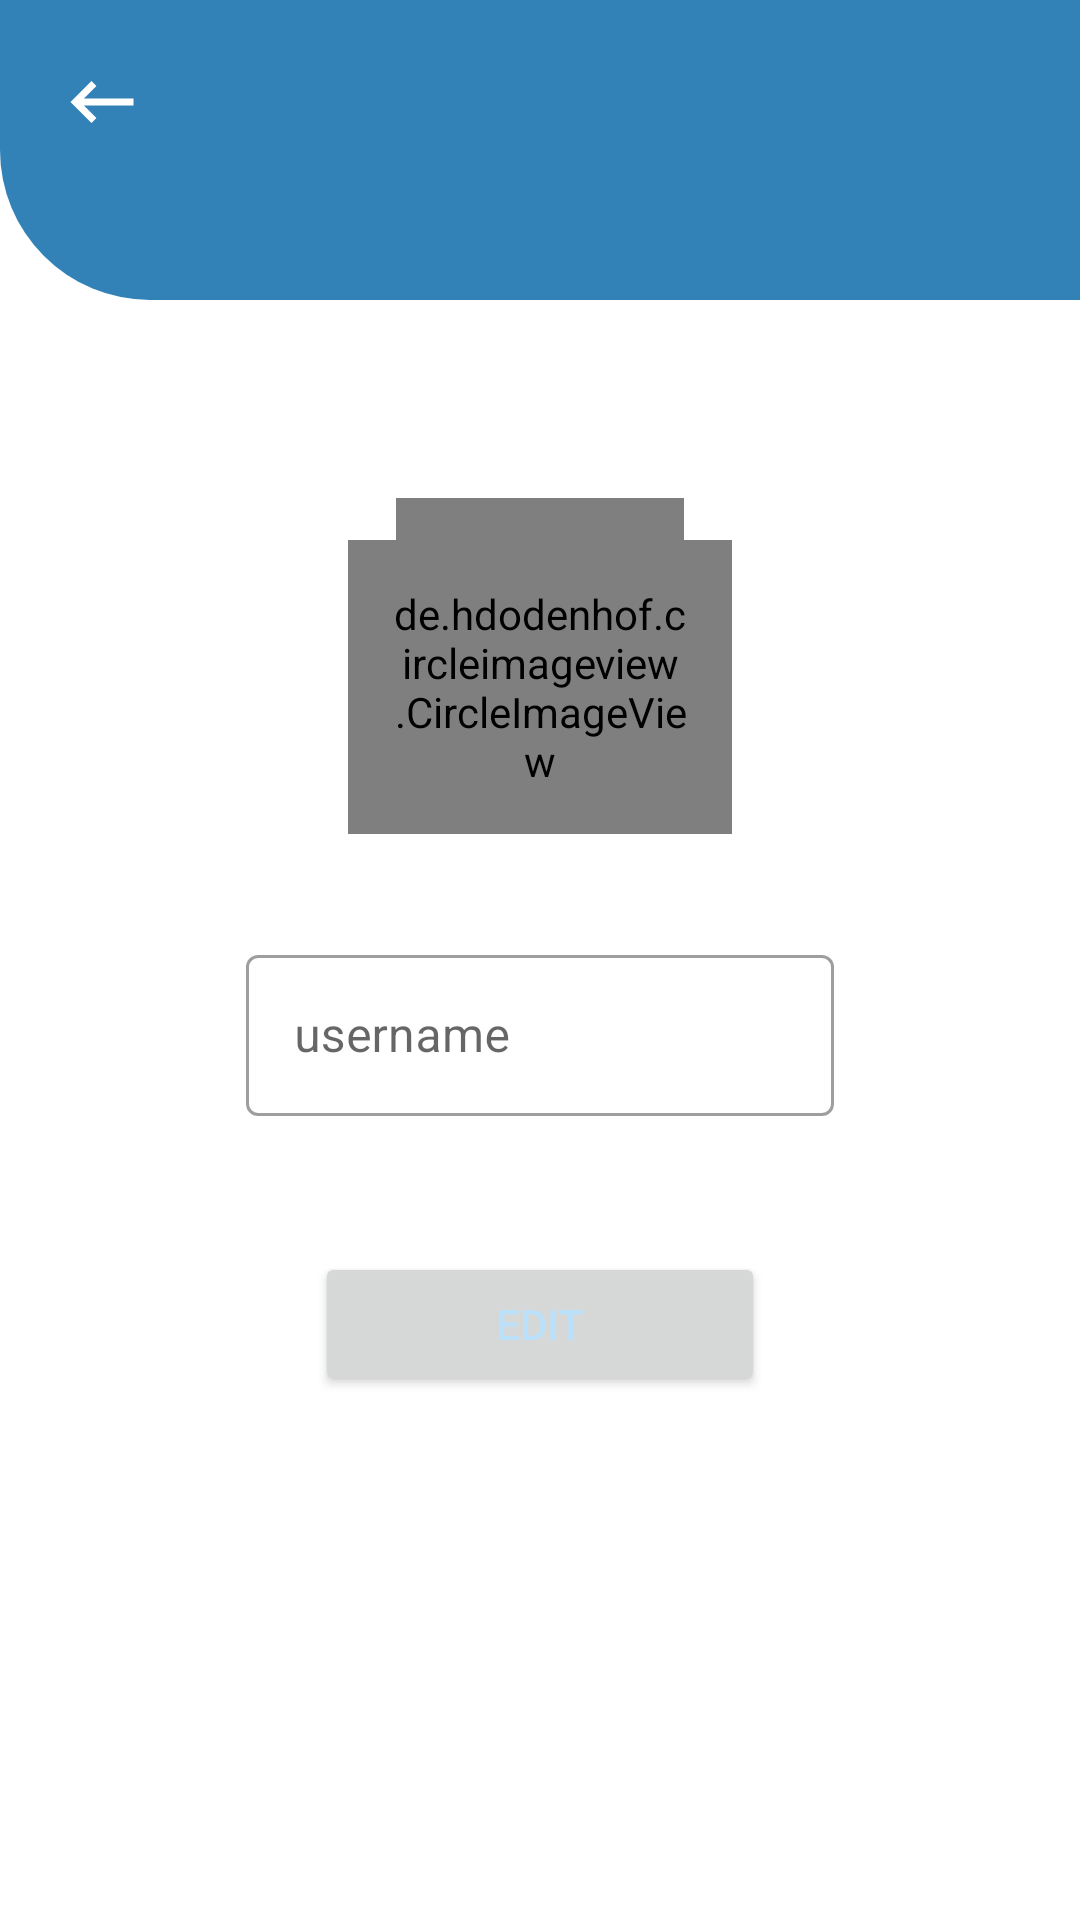

Point at icon controls on the screen. Image size 1080 x 1920, points as point (x, y).
keyboard backspace: point (102, 102)
